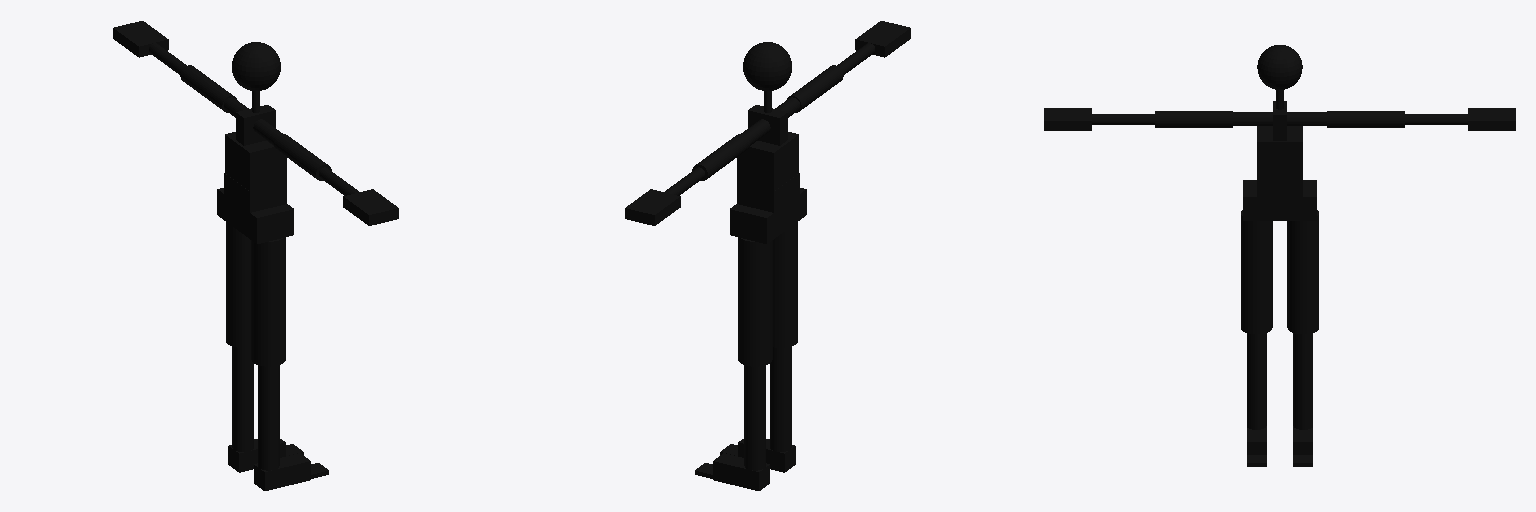
--- Facts derived from the render (not from the file) ---
The picture shows the robot from 3 angles, left to right: view 1: azimuth 30°, elevation 25°; view 2: azimuth 150°, elevation 25°; view 3: azimuth 270°, elevation 25°; orthographic projection.
Robot: XSensStyleModel_template — 49 links, 48 joints (48 revolute); root link Pelvis; default pose: every joint at zero.
Links seen in each view (by area): view 1: RightUpperLeg, LeftUpperLeg, Pelvis, RightLowerLeg, LeftLowerLeg, Head, T12, RightFoot, RightHand, L5, LeftHand, L3 (+4 smaller); view 2: LeftUpperLeg, RightUpperLeg, Pelvis, LeftLowerLeg, RightLowerLeg, Head, T12, LeftFoot, LeftHand, L5, RightHand, L3 (+4 smaller); view 3: RightUpperLeg, LeftUpperLeg, Pelvis, RightLowerLeg, LeftLowerLeg, Head, T12, RightUpperArm, LeftUpperArm, RightHand, LeftHand, L5 (+5 smaller).
Boxes of the visible links, x1,y1,x2,y2 form: RightUpperLeg: (251,237,285,366); LeftUpperLeg: (226,222,250,347); Pelvis: (217,188,293,243); RightLowerLeg: (258,365,279,470); LeftLowerLeg: (232,346,253,451); Head: (232,42,280,90); T12: (225,132,286,171); RightFoot: (254,453,310,490); RightHand: (343,189,398,225); L5: (224,173,286,212); LeftHand: (113,21,168,57); L3: (225,154,286,190); LeftUpperLeg: (738,237,772,366); RightUpperLeg: (773,222,797,347); Pelvis: (730,188,806,243); LeftLowerLeg: (744,365,765,470); RightLowerLeg: (770,346,791,451); Head: (743,42,791,90); T12: (737,132,798,171); LeftFoot: (713,453,769,490); LeftHand: (625,189,680,225); L5: (737,173,799,212); RightHand: (855,21,910,57); L3: (737,154,798,190); RightUpperLeg: (1241,210,1272,333); LeftUpperLeg: (1287,210,1318,333); Pelvis: (1243,180,1316,220); RightLowerLeg: (1247,333,1266,429); LeftLowerLeg: (1293,333,1312,429); Head: (1257,45,1302,89); T12: (1257,126,1302,159); RightUpperArm: (1155,111,1232,127); LeftUpperArm: (1327,111,1404,127); RightHand: (1044,108,1091,130); LeftHand: (1468,108,1515,130); L5: (1257,178,1302,196).
Size in the robot's own frame: 0.3304 by 1.92 by 1.79 metres.
Geometry: primitives only (box / cylinder / sphere), no mesh files.

The robot description file, URDF, robot "XSensStyleModel_template":
<!--URDF MODEL 48 DoFs-->

<robot name="XSensStyleModel_template">

<material name="color">
    <color rgba="0.1 0.1 0.1 1"/>
</material>

<!--To open this model with Gazebo replace the null masses, inertias and dimensions of the 'fake links f1 and f2'-->
    <!--LINKS-->
	<!--Link base (1)-->
	<link name="Pelvis">
        <inertial>
            <mass value="6.312"/>
			<!--COM origin wrt pHipOrigin-->
            <origin xyz="0           0    0.057318" rpy="0 0 0" />
            <inertia ixx="0.052822" iyy="0.019965" izz="0.060476" ixy="0" ixz="0" iyz="0"/>
        </inertial>

        <visual>
			<!--box origin wrt pHipOrigin-->
            <origin xyz="0           0    0.057318" rpy="0 0 0" />
            <geometry>
                <box size="0.16203     0.29786     0.10818"/>
            </geometry>
            <material name="color"/>
        </visual>

        <collision>
			<!--box origin wrt pHipOrigin-->
            <origin xyz="0           0    0.057318" rpy="0 0 0" />
            <geometry>
                <box size="0.16203     0.29786     0.10818"/>
            </geometry>
        </collision>

    </link>
    <!--Chain from (2) to (7)-->
	<link name="L5_f1">
        <inertial>
            <mass value="0"/>
            <origin xyz="0 0 0" rpy="0 0 0" />
            <inertia ixx="0" iyy="0" izz="0" ixy="0" ixz="0" iyz="0"/>
        </inertial>
    </link>
	<link name="L5">
        <inertial>
            <mass value="8.0478"/>
			<!--COM origin wrt jL5S1-->
            <origin xyz="0           0    0.044243" rpy="0 0 0" />
            <inertia ixx="0.029829" iyy="0.022858" izz="0.042185" ixy="0" ixz="0" iyz="0"/>
        </inertial>

        <visual>
			<!--box origin origin wrt jL5S1-->
            <origin xyz="0           0    0.044243" rpy="0 0 0" />
            <geometry>
                <box size="0.16203     0.19144    0.088486"/>
            </geometry>
            <material name="color"/>
        </visual>

        <collision>
			<!--box origin origin wrt jL5S1-->
            <origin xyz="0           0    0.044243" rpy="0 0 0" />
            <geometry>
                <box size="0.16203     0.19144    0.088486"/>
            </geometry>
        </collision>
    </link>
	<link name="L3_f1">
        <inertial>
            <mass value="0"/>
            <origin xyz="0 0 0" rpy="0 0 0" />
            <inertia ixx="0" iyy="0" izz="0" ixy="0" ixz="0" iyz="0"/>
        </inertial>
    </link>
	<link name="L3">
        <inertial>
            <mass value="8.0478"/>
			<!--COM origin wrt jL4L3-->
            <origin xyz="0           0    0.039957" rpy="0 0 0" />
            <inertia ixx="0.028861" iyy="0.02189" izz="0.042185" ixy="0" ixz="0" iyz="0"/>
        </inertial>

        <visual>
			<!--box origin origin wrt jL4L3-->
            <origin xyz="0           0    0.039957" rpy="0 0 0" />
            <geometry>
                <box size="0.16203     0.19144    0.079914"/>
            </geometry>
            <material name="color"/>
        </visual>

        <collision>
			<!--box origin origin wrt jL4L3-->
            <origin xyz="0           0    0.039957" rpy="0 0 0" />
            <geometry>
                <box size="0.16203     0.19144    0.079914"/>
            </geometry>
        </collision>
    </link>
	<link name="T12_f1">
        <inertial>
            <mass value="0"/>
            <origin xyz="0 0 0" rpy="0 0 0" />
            <inertia ixx="0" iyy="0" izz="0" ixy="0" ixz="0" iyz="0"/>
        </inertial>
    </link>
	<link name="T12">
        <inertial>
            <mass value="8.0478"/>
			<!--COM origin wrt jL1T12-->
            <origin xyz="0           0    0.039957" rpy="0 0 0" />
            <inertia ixx="0.028861" iyy="0.02189" izz="0.042185" ixy="0" ixz="0" iyz="0"/>
        </inertial>

        <visual>
			<!--box origin origin wrt jL1T12-->
            <origin xyz="0           0    0.039957" rpy="0 0 0" />
            <geometry>
                <box size="0.16203     0.19144    0.079914"/>
            </geometry>
            <material name="color"/>
        </visual>

        <collision>
			<!--box origin origin wrt jL1T12-->
            <origin xyz="0           0    0.039957" rpy="0 0 0" />
            <geometry>
                <box size="0.16203     0.19144    0.079914"/>
            </geometry>
        </collision>
    </link>
	<link name="T8_f1">
        <inertial>
            <mass value="0"/>
            <origin xyz="0 0 0" rpy="0 0 0" />
            <inertia ixx="0" iyy="0" izz="0" ixy="0" ixz="0" iyz="0"/>
        </inertial>
    </link>
	<link name="T8_f2">
        <inertial>
            <mass value="0"/>
            <origin xyz="0 0 0" rpy="0 0 0" />
            <inertia ixx="0" iyy="0" izz="0" ixy="0" ixz="0" iyz="0"/>
        </inertial>
    </link>
	<link name="T8">
        <inertial>
            <mass value="3.156"/>
			<!--COM origin wrt jT9T8-->
            <origin xyz="0           0    0.057446" rpy="0 0 0" />
            <inertia ixx="0.0044311" iyy="0.0085523" izz="0.0060402" ixy="0" ixz="0" iyz="0"/>
        </inertial>

        <visual>
			<!--box origin wrt jT9T8-->
            <origin xyz="0           0    0.057446" rpy="0 0 0" />
            <geometry>
                <box size="0.13899      0.0604     0.11489"/>
            </geometry>
            <material name="color"/>
        </visual>

        <collision>
			<!--box origin wrt jT9T8-->
            <origin xyz="0           0    0.057446" rpy="0 0 0" />
            <geometry>
                <box size="0.13899      0.0604     0.11489"/>
            </geometry>
        </collision>

    </link>
	<link name="Neck_f1">
        <inertial>
            <mass value="0"/>
            <origin xyz="0 0 0" rpy="0 0 0" />
            <inertia ixx="0" iyy="0" izz="0" ixy="0" ixz="0" iyz="0"/>
        </inertial>
    </link>
	<link name="Neck_f2">
        <inertial>
            <mass value="0"/>
            <origin xyz="0 0 0" rpy="0 0 0" />
            <inertia ixx="0" iyy="0" izz="0" ixy="0" ixz="0" iyz="0"/>
        </inertial>
    </link>
	<link name="Neck">
        <inertial>
            <mass value="0.9468"/>
			<!--COM origin wrt jT1C7-->
            <origin xyz="0           0    0.045875" rpy="0 0 0" />
            <inertia ixx="0.00087909" iyy="0.00087909" izz="0.00042982" ixy="0" ixz="0" iyz="0"/>
        </inertial>

        <visual>
			<!--box origin wrt jT1C7-->
            <origin xyz="0           0    0.045875" rpy="0 0 0" />
            <geometry>
		<cylinder length="0.09175" radius="0.015066"/>
            </geometry>
            <material name="color"/>
        </visual>

        <collision>
			<!--box origin wrt jT1C7-->
            <origin xyz="0           0    0.045875" rpy="0 0 0" />
            <geometry>
                <cylinder length="0.09175" radius="0.015066"/>
            </geometry>
        </collision>
    </link>
	<link name="Head_f1">
        <inertial>
            <mass value="0"/>
            <origin xyz="0 0 0" rpy="0 0 0" />
            <inertia ixx="0" iyy="0" izz="0" ixy="0" ixz="0" iyz="0"/>
        </inertial>
    </link>
	<link name="Head">
        <inertial>
            <mass value="2.8404"/>
			<!--COM origin wrt jC1Head-->
            <origin xyz="0           0    0.092703" rpy="0 0 0" />
            <inertia ixx="0.0097641" iyy="0.0097641" izz="0.0097641" ixy="0" ixz="0" iyz="0"/>
        </inertial>

        <visual>
			<!--boc origin wrt jC1Head-->
            <origin xyz="0           0    0.092703" rpy="0 0 0" />
            <geometry>
                <sphere radius="0.092703"/>
            </geometry>
            <material name="color"/>
        </visual>

        <collision>
			<!--box origin wrt jC1Head-->
            <origin xyz="0           0    0.092703" rpy="0 0 0" />
            <geometry>
                <sphere radius="0.092703"/>
            </geometry>
        </collision>

    </link>
	<!--Chain from (8) to (11)-->
	<link name="RightShoulder">
        <inertial>
            <mass value="2.4459"/>
			<!--COM origin wrt jRightC7Shoulder-->
            <origin xyz="0   -0.081595           0" rpy="0 0 0" />
            <inertia ixx="0.0059341" iyy="0.0010123" izz="0.0059341" ixy="0" ixz="0" iyz="0"/>
        </inertial>

        <visual>
			<!--box origin wrt jRightC7Shoulder. RPY rotated of pi/2.-->
            <origin xyz="0   -0.081595           0" rpy="1.5708 0 0" />
            <geometry>
                <cylinder length="0.16319" radius="0.02877"/>
            </geometry>
            <material name="color"/>
        </visual>

        <collision>
			<!--box origin wrt jRightC7Shoulder. RPY rotated of pi/2.-->
            <origin xyz="0   -0.081595           0" rpy="1.5708 0 0" />
            <geometry>
                <cylinder length="0.16319" radius="0.02877"/>
            </geometry>
        </collision>

    </link>
	<link name="RightUpperArm_f1">
        <inertial>
            <mass value="0"/>
            <origin xyz="0 0 0" rpy="0 0 0" />
            <inertia ixx="0" iyy="0" izz="0" ixy="0" ixz="0" iyz="0"/>
        </inertial>
    </link>
	<link name="RightUpperArm_f2">
        <inertial>
            <mass value="0"/>
            <origin xyz="0 0 0" rpy="0 0 0" />
            <inertia ixx="0" iyy="0" izz="0" ixy="0" ixz="0" iyz="0"/>
        </inertial>
    </link>
    <link name="RightUpperArm">
        <inertial>
            <mass value="2.367"/>
			<!--COM origin wrt jRightShoulder-->
            <origin xyz="0    -0.15754           0" rpy="0 0 0" />
            <inertia ixx="0.020275" iyy="0.0013847" izz="0.020275" ixy="0" ixz="0" iyz="0"/>
        </inertial>

        <visual>
			<!--box origin wrt jRightShoulder. RPY rotated of pi/2.-->
            <origin xyz="0    -0.15754           0" rpy="1.5708 0 0" />
            <geometry>
                <cylinder length="0.31509" radius="0.034205"/>
            </geometry>
            <material name="color"/>
        </visual>

        <collision>
			<!--box origin wrt jRightShoulder. RPY rotated of pi/2.-->
            <origin xyz="0    -0.15754           0" rpy="1.5708 0 0" />
            <geometry>
                <cylinder length="0.31509" radius="0.034205"/>
            </geometry>
        </collision>

    </link>
	<link name="RightForeArm_f1">
        <inertial>
            <mass value="0"/>
            <origin xyz="0 0 0" rpy="0 0 0" />
            <inertia ixx="0" iyy="0" izz="0" ixy="0" ixz="0" iyz="0"/>
        </inertial>
    </link>
	<link name="RightForeArm">
        <inertial>
            <mass value="1.578"/>
			<!--COM origin wrt jRightElbow-->
            <origin xyz="0     -0.1292           0" rpy="0 0 0" />
            <inertia ixx="0.0089856" iyy="0.00041027" izz="0.0089856" ixy="0" ixz="0" iyz="0"/>
        </inertial>

        <visual>
			<!--box origin wrt jRightElbow. RPY rotated of pi/2.-->
            <origin xyz="0     -0.1292           0" rpy="1.5708 0 0" />
            <geometry>
                <cylinder length="0.2584" radius="0.022803"/>
            </geometry>
            <material name="color"/>
        </visual>

        <collision>
			<!--box origin wrt jRightElbow. RPY rotated of pi/2.-->
            <origin xyz="0     -0.1292           0" rpy="1.5708 0 0" />
            <geometry>
                <cylinder length="0.2584" radius="0.022803"/>
            </geometry>
        </collision>

    </link>
	<link name="RightHand_f1">
        <inertial>
            <mass value="0"/>
            <origin xyz="0 0 0" rpy="0 0 0" />
            <inertia ixx="0" iyy="0" izz="0" ixy="0" ixz="0" iyz="0"/>
        </inertial>
    </link>
	<link name="RightHand">
        <inertial>
            <mass value="0.4734"/>
			<!--COM origin wrt jRightWrist-->
            <origin xyz="0   -0.096871           0" rpy="0 0 0" />
            <inertia ixx="0.0015629" iyy="0.00074019" izz="0.0021389" ixy="0" ixz="0" iyz="0"/>
        </inertial>

        <visual>
			<!--box origin wrt jRightWrist-->
            <origin xyz="0   -0.096871           0" rpy="0 0 0" />
            <geometry>
                <box size="0.12916     0.19374    0.045607"/>
            </geometry>
            <material name="color"/>
        </visual>

        <collision>
			<!--box origin wrt jRightWrist-->
            <origin xyz="0   -0.096871           0" rpy="0 0 0" />
            <geometry>
                <box size="0.12916     0.19374    0.045607"/>
            </geometry>
        </collision>

    </link>
	<!--Chain from (12) to (15)-->
	<link name="LeftShoulder">
        <inertial>
            <mass value="2.4459"/>
			<!--COM origin wrt jLeftC7Shoulder-->
            <origin xyz="0    0.081595           0" rpy="0 0 0" />
            <inertia ixx="0.0059341" iyy="0.0010123" izz="0.0059341" ixy="0" ixz="0" iyz="0"/>
        </inertial>

        <visual>
			<!--box origin wrt jLeftC7Shoulder. RPY rotated of pi/2.-->
            <origin xyz="0    0.081595           0" rpy="1.5708 0 0" />
            <geometry>
                <cylinder length="0.16319" radius="0.02877"/>
            </geometry>
            <material name="color"/>
        </visual>

        <collision>
			<!--box origin wrt jLeftC7Shoulder. RPY rotated of pi/2.-->
            <origin xyz="0    0.081595           0" rpy="1.5708 0 0" />
            <geometry>
                <cylinder length="0.16319" radius="0.02877"/>
            </geometry>
        </collision>

    </link>
	<link name="LeftUpperArm_f1">
        <inertial>
            <mass value="0"/>
            <origin xyz="0 0 0" rpy="0 0 0" />
            <inertia ixx="0" iyy="0" izz="0" ixy="0" ixz="0" iyz="0"/>
        </inertial>
    </link>
	<link name="LeftUpperArm_f2">
        <inertial>
            <mass value="0"/>
            <origin xyz="0 0 0" rpy="0 0 0" />
            <inertia ixx="0" iyy="0" izz="0" ixy="0" ixz="0" iyz="0"/>
        </inertial>
    </link>
	<link name="LeftUpperArm">
        <inertial>
            <mass value="2.367"/>
			<!--COM origin wrt jLeftShoulder-->
            <origin xyz="0     0.15754           0" rpy="0 0 0" />
            <inertia ixx="0.020275" iyy="0.0013847" izz="0.020275" ixy="0" ixz="0" iyz="0"/>
        </inertial>

        <visual>
			<!--box origin wrt jLeftShoulder. RPY rotated of pi/2.-->
            <origin xyz="0     0.15754           0" rpy="1.5708 0 0" />
            <geometry>
                <cylinder length="0.31509" radius="0.034205"/>
            </geometry>
            <material name="color"/>
        </visual>

        <collision>
			<!--box origin wrt jLeftShoulder. RPY rotated of pi/2.-->
            <origin xyz="0     0.15754           0" rpy="1.5708 0 0" />
            <geometry>
                <cylinder length="0.31509" radius="0.034205"/>
            </geometry>
        </collision>

    </link>
	<link name="LeftForeArm_f1">
        <inertial>
            <mass value="0"/>
            <origin xyz="0 0 0" rpy="0 0 0" />
            <inertia ixx="0" iyy="0" izz="0" ixy="0" ixz="0" iyz="0"/>
        </inertial>
    </link>
	<link name="LeftForeArm">
        <inertial>
            <mass value="1.578"/>
			<!--COM origin wrt jLeftElbow-->
            <origin xyz="0      0.1292           0" rpy="0 0 0" />
            <inertia ixx="0.0089856" iyy="0.00041027" izz="0.0089856" ixy="0" ixz="0" iyz="0"/>
        </inertial>

        <visual>
			<!--box origin wrt jLeftElbow. RPY rotated of pi/2.-->
            <origin xyz="0      0.1292           0" rpy="1.5708 0 0" />
            <geometry>
                <cylinder length="0.2584" radius="0.022803"/>
            </geometry>
            <material name="color"/>
        </visual>

        <collision>
			<!--box origin wrt jLeftElbow. RPY rotated of pi/2.-->
            <origin xyz="0      0.1292           0" rpy="1.5708 0 0" />
            <geometry>
                <cylinder length="0.2584" radius="0.022803"/>
            </geometry>
        </collision>

    </link>
	<link name="LeftHand_f1">
        <inertial>
            <mass value="0"/>
            <origin xyz="0 0 0" rpy="0 0 0" />
            <inertia ixx="0" iyy="0" izz="0" ixy="0" ixz="0" iyz="0"/>
        </inertial>
    </link>
	<link name="LeftHand">
        <inertial>
            <mass value="0.4734"/>
			<!--COM origin wrt jLeftWrist-->
            <origin xyz="0    0.096871           0" rpy="0 0 0" />
            <inertia ixx="0.0015629" iyy="0.00074019" izz="0.0021389" ixy="0" ixz="0" iyz="0"/>
        </inertial>

        <visual>
			<!--COM origin wrt jLeftWrist-->
            <origin xyz="0    0.096871           0" rpy="0 0 0" />
            <geometry>
                <box size="0.12916     0.19374    0.045607"/>
            </geometry>
            <material name="color"/>
        </visual>

        <collision>
			<!--COM origin wrt jLeftWrist-->
            <origin xyz="0    0.096871           0" rpy="0 0 0" />
            <geometry>
                <box size="0.12916     0.19374    0.045607"/>
            </geometry>
        </collision>

    </link>
	<!--Chain from (16) to (19)-->
	<link name="RightUpperLeg_f1">
        <inertial>
            <mass value="0"/>
            <origin xyz="0 0 0" rpy="0 0 0" />
            <inertia ixx="0" iyy="0" izz="0" ixy="0" ixz="0" iyz="0"/>
        </inertial>
    </link>
	<link name="RightUpperLeg_f2">
        <inertial>
            <mass value="0"/>
            <origin xyz="0 0 0" rpy="0 0 0" />
            <inertia ixx="0" iyy="0" izz="0" ixy="0" ixz="0" iyz="0"/>
        </inertial>
    </link>
    <link name="RightUpperLeg">
        <inertial>
            <mass value="9.8625"/>
			<!--COM origin wrt jRightHip-->
            <origin xyz="0           0     -0.2582" rpy="0 0 0" />
            <inertia ixx="0.22964" iyy="0.22964" izz="0.020925" ixy="0" ixz="0" iyz="0"/>
        </inertial>

        <visual>
			<!--box origin wrt jRightHip-->
            <origin xyz="0           0     -0.2582" rpy="0 0 0" />
            <geometry>
                <cylinder length="0.51641" radius="0.065141"/>
            </geometry>
            <material name="color"/>
        </visual>

        <collision>
			<!--box origin wrt jRightHip-->
            <origin xyz="0           0     -0.2582" rpy="0 0 0" />
            <geometry>
                <cylinder length="0.51641" radius="0.065141"/>
            </geometry>
        </collision>

    </link>
	<link name="RightLowerLeg_f1">
        <inertial>
            <mass value="0"/>
            <origin xyz="0 0 0" rpy="0 0 0" />
            <inertia ixx="0" iyy="0" izz="0" ixy="0" ixz="0" iyz="0"/>
        </inertial>
    </link>
    <link name="RightLowerLeg">
        <inertial>
            <mass value="2.8799"/>
			<!--COM origin wrt jRightKnee-->
            <origin xyz="0           0    -0.22068" rpy="0 0 0" />
            <inertia ixx="0.047941" iyy="0.047941" izz="0.002384" ixy="0" ixz="0" iyz="0"/>
        </inertial>

        <visual>
			<!--box origin wrt jRightKnee-->
            <origin xyz="0           0    -0.22068" rpy="0 0 0" />
            <geometry>
                <cylinder length="0.44136" radius="0.04069"/>
            </geometry>
            <material name="color"/>
        </visual>

        <collision>
			<!--box origin wrt jRightKnee-->
            <origin xyz="0           0    -0.22068" rpy="0 0 0" />
            <geometry>
                <cylinder length="0.44136" radius="0.04069"/>
            </geometry>
        </collision>

    </link>
	<link name="RightFoot_f1">
        <inertial>
            <mass value="0"/>
            <origin xyz="0 0 0" rpy="0 0 0" />
            <inertia ixx="0" iyy="0" izz="0" ixy="0" ixz="0" iyz="0"/>
        </inertial>
    </link>
	<link name="RightFoot_f2">
        <inertial>
            <mass value="0"/>
            <origin xyz="0 0 0" rpy="0 0 0" />
            <inertia ixx="0" iyy="0" izz="0" ixy="0" ixz="0" iyz="0"/>
        </inertial>
    </link>
    <link name="RightFoot">
        <inertial>
            <mass value="1.0257"/>
			<!--COM origin wrt jRightAnkle-->
            <origin xyz="0.059932           0    -0.03973" rpy="0 0 0" />
            <inertia ixx="0.0011058" iyy="0.003993" izz="0.0040194" ixy="0" ixz="0" iyz="0"/>
        </inertial>

        <visual>
			<!--box origin wrt jRightAnkle-->
	    	<origin xyz="0.059932           0    -0.03973" rpy="0 0 0" />
            <geometry>
                <box size="0.201     0.08138     0.07946"/>
            </geometry>
            <material name="color"/>
        </visual>

        <collision>
			<!--box origin wrt jRightAnkle-->
		    <origin xyz="0.059932           0    -0.03973" rpy="0 0 0" />
	            <geometry>
	                <box size="0.201     0.08138     0.07946"/>
	            </geometry>
        </collision>

    </link>
    <link name="RightToe">
        <inertial>
            <mass value="0.11835"/>
			<!--COM origin wrt jRightBallFoot-->
            <origin xyz="0.039497           0           0" rpy="0 0 0" />
            <inertia ixx="6.8414e-05" iyy="6.4641e-05" izz="0.00012686" ixy="0" ixz="0" iyz="0"/>
        </inertial>

        <visual>
			<!--box origin wrt jRightBallFoot-->
            <origin xyz="0.039497           0           0" rpy="0 0 0" />
            <geometry>
                <box size="0.078995     0.08138    0.017721"/>
            </geometry>
            <material name="color"/>
        </visual>

        <collision>
			<!--box origin wrt jRightBallFoot-->
            <origin xyz="0.039497           0           0" rpy="0 0 0" />
            <geometry>
                <box size="0.078995     0.08138    0.017721"/>
            </geometry>
        </collision>
    </link>
	<!--Chain from (20) to (23)-->
	<link name="LeftUpperLeg_f1">
        <inertial>
            <mass value="0"/>
            <origin xyz="0 0 0" rpy="0 0 0" />
            <inertia ixx="0" iyy="0" izz="0" ixy="0" ixz="0" iyz="0"/>
        </inertial>
    </link>
	<link name="LeftUpperLeg_f2">
        <inertial>
            <mass value="0"/>
            <origin xyz="0 0 0" rpy="0 0 0" />
            <inertia ixx="0" iyy="0" izz="0" ixy="0" ixz="0" iyz="0"/>
        </inertial>
    </link>
    <link name="LeftUpperLeg">
        <inertial>
            <mass value="9.8625"/>
			<!--COM origin wrt jLeftHip-->
            <origin xyz="0           0     -0.2582" rpy="0 0 0" />
            <inertia ixx="0.22964" iyy="0.22964" izz="0.020925" ixy="0" ixz="0" iyz="0"/>
        </inertial>

        <visual>
			<!--box origin wrt jLeftHip-->
            <origin xyz="0           0     -0.2582" rpy="0 0 0" />
            <geometry>
                <cylinder length="0.51641" radius="0.065141"/>
            </geometry>
            <material name="color"/>
        </visual>

        <collision>
			<!--box origin wrt jLeftHip-->
            <origin xyz="0           0     -0.2582" rpy="0 0 0" />
            <geometry>
                <cylinder length="0.51641" radius="0.065141"/>
            </geometry>
        </collision>

    </link>
	<link name="LeftLowerLeg_f1">
        <inertial>
            <mass value="0"/>
            <origin xyz="0 0 0" rpy="0 0 0" />
            <inertia ixx="0" iyy="0" izz="0" ixy="0" ixz="0" iyz="0"/>
        </inertial>
    </link>
	<link name="LeftLowerLeg">
        <inertial>
            <mass value="2.8799"/>
			<!--COM origin wrt jLeftKnee-->
            <origin xyz="0           0    -0.22068" rpy="0 0 0" />
            <inertia ixx="0.047941" iyy="0.047941" izz="0.002384" ixy="0" ixz="0" iyz="0"/>
        </inertial>

        <visual>
			<!--box origin wrt jLeftKnee-->
            <origin xyz="0           0    -0.22068" rpy="0 0 0" />
            <geometry>
		<cylinder length="0.44136" radius="0.04069"/>
            </geometry>
            <material name="color"/>
        </visual>

        <collision>
			<!--box origin wrt jLeftKnee-->
            <origin xyz="0           0    -0.22068" rpy="0 0 0" />
            <geometry>
		<cylinder length="0.44136" radius="0.04069"/>
            </geometry>
        </collision>

    </link>
	<link name="LeftFoot_f1">
        <inertial>
            <mass value="0"/>
            <origin xyz="0 0 0" rpy="0 0 0" />
            <inertia ixx="0" iyy="0" izz="0" ixy="0" ixz="0" iyz="0"/>
        </inertial>
    </link>
	<link name="LeftFoot_f2">
        <inertial>
            <mass value="0"/>
            <origin xyz="0 0 0" rpy="0 0 0" />
            <inertia ixx="0" iyy="0" izz="0" ixy="0" ixz="0" iyz="0"/>
        </inertial>
    </link>
    <link name="LeftFoot">
        <inertial>
            <mass value="1.0257"/>
			<!--COM origin wrt jLeftAnkle-->
            <origin xyz="0.059932           0    -0.03973" rpy="0 0 0" />
            <inertia ixx="0.0011058" iyy="0.003993" izz="0.0040194" ixy="0" ixz="0" iyz="0"/>
        </inertial>

        <visual>
			<!--box origin wrt jLeftAnkle-->
	   	 	<origin xyz="0.059932           0    -0.03973" rpy="0 0 0" />
            <geometry>
                <box size="0.201     0.08138     0.07946"/>
            </geometry>
            <material name="color"/>
        </visual>

        <collision>
			<!--box origin wrt jLeftAnkle-->
		    <origin xyz="0.059932           0    -0.03973" rpy="0 0 0" />
	            <geometry>
	                <box size="0.201     0.08138     0.07946"/>
	            </geometry>
        </collision>

    </link>
	<link name="LeftToe">
        <inertial>
            <mass value="0.11835"/>
			<!--COM origin wrt jLeftBallFoot-->
            <origin xyz="0.039497           0           0" rpy="0 0 0" />
            <inertia ixx="6.8414e-05" iyy="6.4641e-05" izz="0.00012686" ixy="0" ixz="0" iyz="0"/>
        </inertial>

        <visual>
			<!--box origin wrt jLeftBallFoot-->
            <origin xyz="0.039497           0           0" rpy="0 0 0" />
            <geometry>
                <box size="0.078995     0.08138    0.017721"/>
            </geometry>
            <material name="color"/>
        </visual>

        <collision>
			<!--box origin wrt jLeftBallFoot-->
            <origin xyz="0.039497           0           0" rpy="0 0 0" />
            <geometry>
                <box size="0.078995     0.08138    0.017721"/>
            </geometry>
        </collision>
    </link>


	<!--JOINTS-->
	<!--Chain from (2) to (7)-->
	<joint name="jL5S1_rotx" type="revolute">
        <origin xyz="-0.000659           0     0.11141" rpy="0 0 0"/>
        <parent link="Pelvis"/>
        <child link="L5_f1"/>
        <dynamics damping="0.1" friction="0.0"/>
        <limit effort="30" velocity="1.0" lower="-10.0" upper="10.0" />
        <axis xyz="1 0 0" />
    </joint>
	<joint name="jL5S1_roty" type="revolute">
        <origin xyz="0 0 0" rpy="0 0 0"/>
        <parent link="L5_f1"/>
        <child link="L5"/>
        <dynamics damping="0.1" friction="0.0"/>
        <limit effort="30" velocity="1.0" lower="-10.0" upper="10.0" />
        <axis xyz="0 1 0" />
    </joint>
	<joint name="jL4L3_rotx" type="revolute">
        <origin xyz="0.001197           0    0.088486" rpy="0 0 0"/>
        <parent link="L5"/>
        <child link="L3_f1"/>
        <dynamics damping="0.1" friction="0.0"/>
        <limit effort="30" velocity="1.0" lower="-10.0" upper="10.0" />
        <axis xyz="1 0 0" />
    </joint>
	<joint name="jL4L3_roty" type="revolute">
        <origin xyz="0 0 0" rpy="0 0 0"/>
        <parent link="L3_f1"/>
        <child link="L3"/>
        <dynamics damping="0.1" friction="0.0"/>
        <limit effort="30" velocity="1.0" lower="-10.0" upper="10.0" />
        <axis xyz="0 1 0" />
    </joint>
	<joint name="jL1T12_rotx" type="revolute">
        <origin xyz="0           0    0.079914" rpy="0 0 0"/>
        <parent link="L3"/>
        <child link="T12_f1"/>
        <dynamics damping="0.1" friction="0.0"/>
        <limit effort="30" velocity="1.0" lower="-10.0" upper="10.0" />
        <axis xyz="1 0 0" />
    </joint>
	<joint name="jL1T12_roty" type="revolute">
        <origin xyz="0 0 0" rpy="0 0 0"/>
        <parent link="T12_f1"/>
        <child link="T12"/>
        <dynamics damping="0.1" friction="0.0"/>
        <limit effort="30" velocity="1.0" lower="-10.0" upper="10.0" />
        <axis xyz="0 1 0" />
    </joint>
	<joint name="jT9T8_rotx" type="revolute">
        <origin xyz="0           0    0.079914" rpy="0 0 0"/>
        <parent link="T12"/>
        <child link="T8_f1"/>
        <dynamics damping="0.1" friction="0.0"/>
        <limit effort="30" velocity="1.0" lower="-10.0" upper="10.0" />
        <axis xyz="1 0 0" />
    </joint>
	<joint name="jT9T8_roty" type="revolute">
        <origin xyz="0 0 0" rpy="0 0 0"/>
        <parent link="T8_f1"/>
        <child link="T8_f2"/>
        <dynamics damping="0.1" friction="0.0"/>
        <limit effort="30" velocity="1.0" lower="-10.0" upper="10.0" />
        <axis xyz="0 1 0" />
    </joint>
    <joint name="jT9T8_rotz" type="revolute">
        <origin xyz="0 0 0" rpy="0 0 0"/>
        <parent link="T8_f2"/>
        <child link="T8"/>
        <dynamics damping="0.1" friction="0.0"/>
        <limit effort="30" velocity="1.0" lower="-10.0" upper="10.0" />
        <axis xyz="0 0 1" />
    </joint>
	<joint name="jT1C7_rotx" type="revolute">
        <origin xyz="0           0     0.11489" rpy="0 0 0"/>
        <parent link="T8"/>
        <child link="Neck_f1"/>
        <dynamics damping="0.1" friction="0.0"/>
        <limit effort="30" velocity="1.0" lower="-10.0" upper="10.0" />
        <axis xyz="1 0 0" />
    </joint>
	<joint name="jT1C7_roty" type="revolute">
        <origin xyz="0 0 0" rpy="0 0 0"/>
        <parent link="Neck_f1"/>
        <child link="Neck_f2"/>
        <dynamics damping="0.1" friction="0.0"/>
        <limit effort="30" velocity="1.0" lower="-10.0" upper="10.0" />
        <axis xyz="0 1 0" />
    </joint>
    <joint name="jT1C7_rotz" type="revolute">
        <origin xyz="0 0 0" rpy="0 0 0"/>
        <parent link="Neck_f2"/>
        <child link="Neck"/>
        <dynamics damping="0.1" friction="0.0"/>
        <limit effort="30" velocity="1.0" lower="-10.0" upper="10.0" />
        <axis xyz="0 0 1" />
    </joint>
	<joint name="jC1Head_rotx" type="revolute">
        <origin xyz="0.001481           0     0.09175" rpy="0 0 0"/>
        <parent link="Neck"/>
        <child link="Head_f1"/>
        <dynamics damping="0.1" friction="0.0"/>
        <limit effort="30" velocity="1.0" lower="-10.0" upper="10.0" />
        <axis xyz="1 0 0" />
    </joint>
	<joint name="jC1Head_roty" type="revolute">
        <origin xyz="0 0 0" rpy="0 0 0"/>
        <parent link="Head_f1"/>
        <child link="Head"/>
        <dynamics damping="0.1" friction="0.0"/>
        <limit effort="30" velocity="1.0" lower="-10.0" upper="10.0" />
        <axis xyz="0 1 0" />
    </joint>
	<!--Chain from (8) to (11)-->
	<joint name="jRightC7Shoulder_rotx" type="revolute">
        <origin xyz="0     -0.0302    0.064859" rpy="0 0 0"/>
        <parent link="T8"/>
        <child link="RightShoulder"/>
        <dynamics damping="0.1" friction="0.0"/>
        <limit effort="30" velocity="1.0" lower="-10.0" upper="10.0" />
        <axis xyz="1 0 0" />
    </joint>
	<joint name="jRightShoulder_rotx" type="revolute">
        <origin xyz="0    -0.16319           0" rpy="0 0 0"/>
        <parent link="RightShoulder"/>
        <child link="RightUpperArm_f1"/>
        <dynamics damping="0.1" friction="0.0"/>
        <limit effort="30" velocity="1.0" lower="-10.0" upper="10.0" />
        <axis xyz="1 0 0" />
    </joint>
	<joint name="jRightShoulder_roty" type="revolute">
        <origin xyz="0 0 0" rpy="0 0 0"/>
        <parent link="RightUpperArm_f1"/>
        <child link="RightUpperArm_f2"/>
        <dynamics damping="0.1" friction="0.0"/>
        <limit effort="30" velocity="1.0" lower="-10.0" upper="10.0" />
        <axis xyz="0 1 0" />
    </joint>
    <joint name="jRightShoulder_rotz" type="revolute">
        <origin xyz="0 0 0" rpy="0 0 0"/>
        <parent link="RightUpperArm_f2"/>
        <child link="RightUpperArm"/>
        <dynamics damping="0.1" friction="0.0"/>
        <limit effort="30" velocity="1.0" lower="-10.0" upper="10.0" />
        <axis xyz="0 0 1" />
    </joint>
	<joint name="jRightElbow_roty" type="revolute">
        <origin xyz="0    -0.31509           0" rpy="0 0 0"/>
        <parent link="RightUpperArm"/>
        <child link="RightForeArm_f1"/>
        <dynamics damping="0.1" friction="0.0"/>
        <limit effort="30" velocity="1.0" lower="-10.0" upper="10.0" />
        <axis xyz="0 1 0" />
    </joint>
	<joint name="jRightElbow_rotz" type="revolute">
        <origin xyz="0 0 0" rpy="0 0 0"/>
        <parent link="RightForeArm_f1"/>
        <child link="RightForeArm"/>
        <dynamics damping="0.1" friction="0.0"/>
        <limit effort="30" velocity="1.0" lower="-10.0" upper="10.0" />
        <axis xyz="0 0 1" />
    </joint>
	<joint name="jRightWrist_rotx" type="revolute">
        <origin xyz="2.6e-05     -0.2584           0" rpy="0 0 0"/>
        <parent link="RightForeArm"/>
        <child link="RightHand_f1"/>
        <dynamics damping="0.1" friction="0.0"/>
        <limit effort="30" velocity="1.0" lower="-10.0" upper="10.0" />
        <axis xyz="1 0 0" />
    </joint>
	<joint name="jRightWrist_rotz" type="revolute">
        <origin xyz="0 0 0" rpy="0 0 0"/>
        <parent link="RightHand_f1"/>
        <child link="RightHand"/>
        <dynamics damping="0.1" friction="0.0"/>
        <limit effort="30" velocity="1.0" lower="-10.0" upper="10.0" />
        <axis xyz="0 0 1" />
    </joint>
	<!--Chain from (12) to (15)-->
	<joint name="jLeftC7Shoulder_rotx" type="revolute">
        <origin xyz="0      0.0302    0.064859" rpy="0 0 0"/>
        <parent link="T8"/>
        <child link="LeftShoulder"/>
        <dynamics damping="0.1" friction="0.0"/>
        <limit effort="30" velocity="1.0" lower="-10.0" upper="10.0" />
        <axis xyz="1 0 0" />
    </joint>
	<joint name="jLeftShoulder_rotx" type="revolute">
        <origin xyz="0     0.16319           0" rpy="0 0 0"/>
        <parent link="LeftShoulder"/>
        <child link="LeftUpperArm_f1"/>
        <dynamics damping="0.1" friction="0.0"/>
        <limit effort="30" velocity="1.0" lower="-10.0" upper="10.0" />
        <axis xyz="1 0 0" />
    </joint>
	<joint name="jLeftShoulder_roty" type="revolute">
        <origin xyz="0 0 0" rpy="0 0 0"/>
        <parent link="LeftUpperArm_f1"/>
        <child link="LeftUpperArm_f2"/>
        <dynamics damping="0.1" friction="0.0"/>
        <limit effort="30" velocity="1.0" lower="-10.0" upper="10.0" />
        <axis xyz="0 1 0" />
    </joint>
    <joint name="jLeftShoulder_rotz" type="revolute">
        <origin xyz="0 0 0" rpy="0 0 0"/>
        <parent link="LeftUpperArm_f2"/>
        <child link="LeftUpperArm"/>
        <dynamics damping="0.1" friction="0.0"/>
        <limit effort="30" velocity="1.0" lower="-10.0" upper="10.0" />
        <axis xyz="0 0 1" />
    </joint>
    <joint name="jLeftElbow_roty" type="revolute">
        <origin xyz="0     0.31509           0" rpy="0 0 0"/>
        <parent link="LeftUpperArm"/>
        <child link="LeftForeArm_f1"/>
        <dynamics damping="0.1" friction="0.0"/>
        <limit effort="30" velocity="1.0" lower="-10.0" upper="10.0" />
        <axis xyz="0 1 0" />
    </joint>
    <joint name="jLeftElbow_rotz" type="revolute">
        <origin xyz="0 0 0" rpy="0 0 0"/>
        <parent link="LeftForeArm_f1"/>
        <child link="LeftForeArm"/>
        <dynamics damping="0.1" friction="0.0"/>
        <limit effort="30" velocity="1.0" lower="-10.0" upper="10.0" />
        <axis xyz="0 0 1" />
    </joint>
	<joint name="jLeftWrist_rotx" type="revolute">
        <origin xyz="2.6e-05      0.2584           0" rpy="0 0 0"/>
        <parent link="LeftForeArm"/>
        <child link="LeftHand_f1"/>
        <dynamics damping="0.1" friction="0.0"/>
        <limit effort="30" velocity="1.0" lower="-10.0" upper="10.0" />
        <axis xyz="1 0 0" />
    </joint>
	<joint name="jLeftWrist_rotz" type="revolute">
        <origin xyz="0 0 0" rpy="0 0 0"/>
        <parent link="LeftHand_f1"/>
        <child link="LeftHand"/>
        <dynamics damping="0.1" friction="0.0"/>
        <limit effort="30" velocity="1.0" lower="-10.0" upper="10.0" />
        <axis xyz="0 0 1" />
    </joint>
	<!--Chain from (16) to (19)-->
	<joint name="jRightHip_rotx" type="revolute">
        <origin xyz="0.000329   -0.095719    0.003228" rpy="0 0 0"/>
        <parent link="Pelvis"/>
        <child link="RightUpperLeg_f1"/>
        <dynamics damping="0.1" friction="0.0"/>
        <limit effort="30" velocity="1.0" lower="-10.0" upper="10.0" />
        <axis xyz="1 0 0" />
    </joint>
	<joint name="jRightHip_roty" type="revolute">
        <origin xyz="0 0 0" rpy="0 0 0"/>
        <parent link="RightUpperLeg_f1"/>
        <child link="RightUpperLeg_f2"/>
        <dynamics damping="0.1" friction="0.0"/>
        <limit effort="30" velocity="1.0" lower="-10.0" upper="10.0" />
        <axis xyz="0 1 0" />
    </joint>
    <joint name="jRightHip_rotz" type="revolute">
        <origin xyz="0 0 0" rpy="0 0 0"/>
        <parent link="RightUpperLeg_f2"/>
        <child link="RightUpperLeg"/>
        <dynamics damping="0.1" friction="0.0"/>
        <limit effort="30" velocity="1.0" lower="-10.0" upper="10.0" />
        <axis xyz="0 0 1" />
    </joint>
	<joint name="jRightKnee_roty" type="revolute">
        <origin xyz="-1.7e-05           0    -0.51641" rpy="0 0 0"/>
        <parent link="RightUpperLeg"/>
        <child link="RightLowerLeg_f1"/>
        <dynamics damping="0.1" friction="0.0"/>
        <limit effort="30" velocity="1.0" lower="-10.0" upper="10.0" />
        <axis xyz="0 1 0" />
    </joint>
	<joint name="jRightKnee_rotz" type="revolute">
        <origin xyz="0 0 0" rpy="0 0 0"/>
        <parent link="RightLowerLeg_f1"/>
        <child link="RightLowerLeg"/>
        <dynamics damping="0.1" friction="0.0"/>
        <limit effort="30" velocity="1.0" lower="-10.0" upper="10.0" />
        <axis xyz="0 0 1" />
    </joint>
	<joint name="jRightAnkle_rotx" type="revolute">
        <origin xyz="-6.4e-05           0    -0.44136" rpy="0 0 0"/>
        <parent link="RightLowerLeg"/>
        <child link="RightFoot_f1"/>
        <dynamics damping="0.1" friction="0.0"/>
        <limit effort="30" velocity="1.0" lower="-10.0" upper="10.0" />
        <axis xyz="1 0 0" />
    </joint>
	<joint name="jRightAnkle_roty" type="revolute">
        <origin xyz="0 0 0" rpy="0 0 0"/>
        <parent link="RightFoot_f1"/>
        <child link="RightFoot_f2"/>
        <dynamics damping="0.1" friction="0.0"/>
        <limit effort="30" velocity="1.0" lower="-10.0" upper="10.0" />
        <axis xyz="0 1 0" />
    </joint>
    <joint name="jRightAnkle_rotz" type="revolute">
        <origin xyz="0 0 0" rpy="0 0 0"/>
        <parent link="RightFoot_f2"/>
        <child link="RightFoot"/>
        <dynamics damping="0.1" friction="0.0"/>
        <limit effort="30" velocity="1.0" lower="-10.0" upper="10.0" />
        <axis xyz="0 0 1" />
    </joint>
	<joint name="jRightBallFoot_roty" type="revolute">
        <origin xyz="0.16043           0   -0.066506" rpy="0 0 0"/>
        <parent link="RightFoot"/>
        <child link="RightToe"/>
        <dynamics damping="0.1" friction="0.0"/>
        <limit effort="30" velocity="1.0" lower="-10.0" upper="10.0" />
        <axis xyz="0 1 0" />
    </joint>
	<!--Chain from (20) to (23)-->
	<joint name="jLeftHip_rotx" type="revolute">
        <origin xyz="0.000329    0.095719    0.003228" rpy="0 0 0"/>
        <parent link="Pelvis"/>
        <child link="LeftUpperLeg_f1"/>
        <dynamics damping="0.1" friction="0.0"/>
        <limit effort="30" velocity="1.0" lower="-10.0" upper="10.0" />
        <axis xyz="1 0 0" />
    </joint>
	<joint name="jLeftHip_roty" type="revolute">
        <origin xyz="0 0 0" rpy="0 0 0"/>
        <parent link="LeftUpperLeg_f1"/>
        <child link="LeftUpperLeg_f2"/>
        <dynamics damping="0.1" friction="0.0"/>
        <limit effort="30" velocity="1.0" lower="-10.0" upper="10.0" />
        <axis xyz="0 1 0" />
    </joint>
    <joint name="jLeftHip_rotz" type="revolute">
        <origin xyz="0 0 0" rpy="0 0 0"/>
        <parent link="LeftUpperLeg_f2"/>
        <child link="LeftUpperLeg"/>
        <dynamics damping="0.1" friction="0.0"/>
        <limit effort="30" velocity="1.0" lower="-10.0" upper="10.0" />
        <axis xyz="0 0 1" />
    </joint>
	<joint name="jLeftKnee_roty" type="revolute">
        <origin xyz="-1.7e-05           0    -0.51641" rpy="0 0 0"/>
        <parent link="LeftUpperLeg"/>
        <child link="LeftLowerLeg_f1"/>
        <dynamics damping="0.1" friction="0.0"/>
        <limit effort="30" velocity="1.0" lower="-10.0" upper="10.0" />
        <axis xyz="0 1 0" />
    </joint>
    <joint name="jLeftKnee_rotz" type="revolute">
        <origin xyz="0 0 0" rpy="0 0 0"/>
        <parent link="LeftLowerLeg_f1"/>
        <child link="LeftLowerLeg"/>
        <dynamics damping="0.1" friction="0.0"/>
        <limit effort="30" velocity="1.0" lower="-10.0" upper="10.0" />
        <axis xyz="0 0 1" />
    </joint>
	<joint name="jLeftAnkle_rotx" type="revolute">
        <origin xyz="-6.4e-05           0    -0.44136" rpy="0 0 0"/>
        <parent link="LeftLowerLeg"/>
        <child link="LeftFoot_f1"/>
        <dynamics damping="0.1" friction="0.0"/>
        <limit effort="30" velocity="1.0" lower="-10.0" upper="10.0" />
        <axis xyz="1 0 0" />
    </joint>
	<joint name="jLeftAnkle_roty" type="revolute">
        <origin xyz="0 0 0" rpy="0 0 0"/>
        <parent link="LeftFoot_f1"/>
        <child link="LeftFoot_f2"/>
        <dynamics damping="0.1" friction="0.0"/>
        <limit effort="30" velocity="1.0" lower="-10.0" upper="10.0" />
        <axis xyz="0 1 0" />
    </joint>
    <joint name="jLeftAnkle_rotz" type="revolute">
        <origin xyz="0 0 0" rpy="0 0 0"/>
        <parent link="LeftFoot_f2"/>
        <child link="LeftFoot"/>
        <dynamics damping="0.1" friction="0.0"/>
        <limit effort="30" velocity="1.0" lower="-10.0" upper="10.0" />
        <axis xyz="0 0 1" />
    </joint>
	<joint name="jLeftBallFoot_roty" type="revolute">
        <origin xyz="0.16043           0   -0.066506" rpy="0 0 0"/>
        <parent link="LeftFoot"/>
        <child link="LeftToe"/>
        <dynamics damping="0.1" friction="0.0"/>
        <limit effort="30" velocity="1.0" lower="-10.0" upper="10.0" />
        <axis xyz="0 1 0" />
    </joint>

	<!-- Sensor  1-->
<sensor name="Pelvis_gyro" type="gyroscope">
<parent link="Pelvis"/>
<origin xyz="-0.06667  1.9218e-05     0.11377" rpy="0.058235      1.2743     -2.9125"/>
</sensor>
<sensor name="Pelvis_accelerometer" type="accelerometer">
<parent link="Pelvis"/>
<origin xyz="-0.06667  1.9218e-05     0.11377" rpy="0.058235      1.2743     -2.9125"/>
</sensor>
<!-- Sensor  2-->
<sensor name="T8_gyro" type="gyroscope">
<parent link="T8"/>
<origin xyz="0.12972 -1.4872e-09    0.071348" rpy="0.045215      1.2793   -0.026658"/>
</sensor>
<sensor name="T8_accelerometer" type="accelerometer">
<parent link="T8"/>
<origin xyz="0.12972 -1.4872e-09    0.071348" rpy="0.045215      1.2793   -0.026658"/>
</sensor>
<!-- Sensor  3-->
<sensor name="Head_gyro" type="gyroscope">
<parent link="Head"/>
<origin xyz="-0.073763 -5.7664e-08    0.081079" rpy="2.3426    0.082693     -1.5131"/>
</sensor>
<sensor name="Head_accelerometer" type="accelerometer">
<parent link="Head"/>
<origin xyz="-0.073763 -5.7664e-08    0.081079" rpy="2.3426    0.082693     -1.5131"/>
</sensor>
<!-- Sensor  4-->
<sensor name="RightShoulder_gyro" type="gyroscope">
<parent link="RightShoulder"/>
<origin xyz="-0.023016    -0.05754   -0.069048" rpy="1.0994    -0.29541     -1.4356"/>
</sensor>
<sensor name="RightShoulder_accelerometer" type="accelerometer">
<parent link="RightShoulder"/>
<origin xyz="-0.023016    -0.05754   -0.069048" rpy="1.0994    -0.29541     -1.4356"/>
</sensor>
<!-- Sensor  5-->
<sensor name="RightUpperArm_gyro" type="gyroscope">
<parent link="RightUpperArm"/>
<origin xyz="-0.021049    -0.10525    0.021049" rpy="-0.18121   -0.028714      -1.559"/>
</sensor>
<sensor name="RightUpperArm_accelerometer" type="accelerometer">
<parent link="RightUpperArm"/>
<origin xyz="-0.021049    -0.10525    0.021049" rpy="-0.18121   -0.028714      -1.559"/>
</sensor>
<!-- Sensor  6-->
<sensor name="RightForeArm_gyro" type="gyroscope">
<parent link="RightForeArm"/>
<origin xyz="0.0019387    -0.21155    0.021129" rpy="-0.20029     0.04118     -1.3259"/>
</sensor>
<sensor name="RightForeArm_accelerometer" type="accelerometer">
<parent link="RightForeArm"/>
<origin xyz="0.0019387    -0.21155    0.021129" rpy="-0.20029     0.04118     -1.3259"/>
</sensor>
<!-- Sensor  7-->
<sensor name="RightHand_gyro" type="gyroscope">
<parent link="RightHand"/>
<origin xyz="1.9276e-08   -0.058423    0.021245" rpy="-0.27973    -0.18064     -1.2866"/>
</sensor>
<sensor name="RightHand_accelerometer" type="accelerometer">
<parent link="RightHand"/>
<origin xyz="1.9276e-08   -0.058423    0.021245" rpy="-0.27973    -0.18064     -1.2866"/>
</sensor>
<!-- Sensor  8-->
<sensor name="LeftShoulder_gyro" type="gyroscope">
<parent link="LeftShoulder"/>
<origin xyz="-0.023016     0.05754   -0.069048" rpy="-1.0089    -0.34586      1.3174"/>
</sensor>
<sensor name="LeftShoulder_accelerometer" type="accelerometer">
<parent link="LeftShoulder"/>
<origin xyz="-0.023016     0.05754   -0.069048" rpy="-1.0089    -0.34586      1.3174"/>
</sensor>
<!-- Sensor  9-->
<sensor name="LeftUpperArm_gyro" type="gyroscope">
<parent link="LeftUpperArm"/>
<origin xyz="-0.021049     0.10525    0.021049" rpy="0.030288   -0.042253      1.4747"/>
</sensor>
<sensor name="LeftUpperArm_accelerometer" type="accelerometer">
<parent link="LeftUpperArm"/>
<origin xyz="-0.021049     0.10525    0.021049" rpy="0.030288   -0.042253      1.4747"/>
</sensor>
<!-- Sensor  10-->
<sensor name="LeftForeArm_gyro" type="gyroscope">
<parent link="LeftForeArm"/>
<origin xyz="0.0019386     0.21155     0.02113" rpy="0.17531   -0.052628      1.4252"/>
</sensor>
<sensor name="LeftForeArm_accelerometer" type="accelerometer">
<parent link="LeftForeArm"/>
<origin xyz="0.0019386     0.21155     0.02113" rpy="0.17531   -0.052628      1.4252"/>
</sensor>
<!-- Sensor  11-->
<sensor name="LeftHand_gyro" type="gyroscope">
<parent link="LeftHand"/>
<origin xyz="-1.0978e-07    0.058423    0.021245" rpy="0.18354    -0.17407       1.488"/>
</sensor>
<sensor name="LeftHand_accelerometer" type="accelerometer">
<parent link="LeftHand"/>
<origin xyz="-1.0978e-07    0.058423    0.021245" rpy="0.18354    -0.17407       1.488"/>
</sensor>
<!-- Sensor  12-->
<sensor name="RightUpperLeg_gyro" type="gyroscope">
<parent link="RightUpperLeg"/>
<origin xyz="0.014955   -0.052655    -0.31107" rpy="2.6448      1.4197      1.0822"/>
</sensor>
<sensor name="RightUpperLeg_accelerometer" type="accelerometer">
<parent link="RightUpperLeg"/>
<origin xyz="0.014955   -0.052655    -0.31107" rpy="2.6448      1.4197      1.0822"/>
</sensor>
<!-- Sensor  13-->
<sensor name="RightLowerLeg_gyro" type="gyroscope">
<parent link="RightLowerLeg"/>
<origin xyz="0.033526   0.0076743    -0.14424" rpy="-2.4205      1.5343     -2.7176"/>
</sensor>
<sensor name="RightLowerLeg_accelerometer" type="accelerometer">
<parent link="RightLowerLeg"/>
<origin xyz="0.033526   0.0076743    -0.14424" rpy="-2.4205      1.5343     -2.7176"/>
</sensor>
<!-- Sensor  14-->
<sensor name="RightFoot_gyro" type="gyroscope">
<parent link="RightFoot"/>
<origin xyz="0.091788   0.0015275   -0.012958" rpy="0.31723     0.31046    -0.12923"/>
</sensor>
<sensor name="RightFoot_accelerometer" type="accelerometer">
<parent link="RightFoot"/>
<origin xyz="0.091788   0.0015275   -0.012958" rpy="0.31723     0.31046    -0.12923"/>
</sensor>
<!-- Sensor  15-->
<sensor name="LeftUpperLeg_gyro" type="gyroscope">
<parent link="LeftUpperLeg"/>
<origin xyz="0.014955    0.052655    -0.31107" rpy="2.5284      1.4035     -2.3242"/>
</sensor>
<sensor name="LeftUpperLeg_accelerometer" type="accelerometer">
<parent link="LeftUpperLeg"/>
<origin xyz="0.014955    0.052655    -0.31107" rpy="2.5284      1.4035     -2.3242"/>
</sensor>
<!-- Sensor  16-->
<sensor name="LeftLowerLeg_gyro" type="gyroscope">
<parent link="LeftLowerLeg"/>
<origin xyz="0.033526  -0.0076744    -0.14424" rpy="-3.0126      1.4123     -3.1283"/>
</sensor>
<sensor name="LeftLowerLeg_accelerometer" type="accelerometer">
<parent link="LeftLowerLeg"/>
<origin xyz="0.033526  -0.0076744    -0.14424" rpy="-3.0126      1.4123     -3.1283"/>
</sensor>
<!-- Sensor  17-->
<sensor name="LeftFoot_gyro" type="gyroscope">
<parent link="LeftFoot"/>
<origin xyz="0.091788  -0.0015275   -0.012958" rpy="-0.32102     0.38373     0.13021"/>
</sensor>
<sensor name="LeftFoot_accelerometer" type="accelerometer">
<parent link="LeftFoot"/>
<origin xyz="0.091788  -0.0015275   -0.012958" rpy="-0.32102     0.38373     0.13021"/>
</sensor>


</robot>
